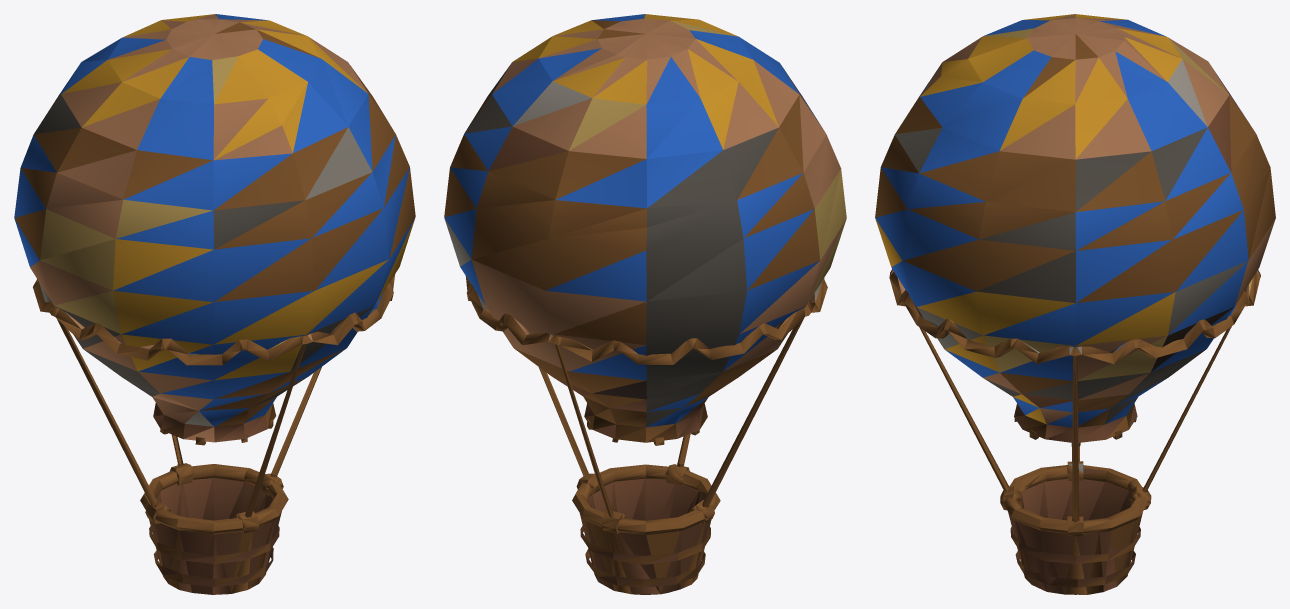
Rendered from unit.balloon.glb.
3 renders of one model, left to right at view 1: azimuth 30°, elevation 25°; view 2: azimuth 150°, elevation 25°; view 3: azimuth 270°, elevation 25°, orthographic.
Visible parts, largest first — view 1: asset; view 2: asset; view 3: asset.
Boxes of the visible parts, box(x1,y1,x2,y2) form: asset: box(14, 14, 415, 594); asset: box(444, 14, 846, 594); asset: box(875, 14, 1275, 594).
Bounding box in the file's own units: 1.29 × 1.9 × 1.28.
